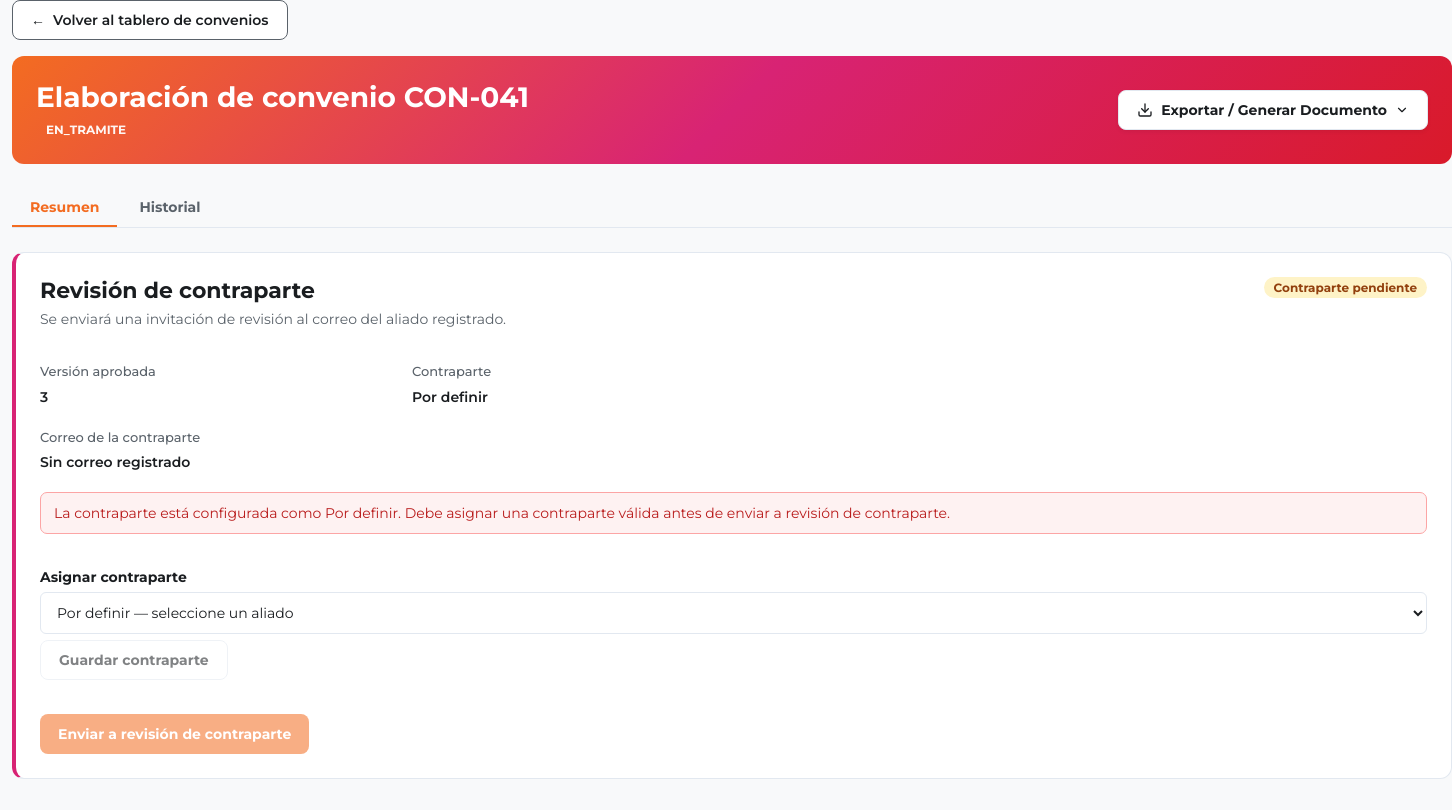
Test: HT-16 (#172): validación y asignación de contraparte antes del envío (CA-01, CA-02, CA-03) › CA-01, CA-02 y CA-03: asigna desde Por definir y exige nuevos avales al rectificar la contraparte
Expected: the message shows "Por definir", [54,504,950,522]
Expected: the message shows "Debe asignar una contraparte válida", [54,504,950,522]
Select "Aliado Sin Correo (800111222) · Sin correo" in the dropdown labelled "Asignar contraparte" at {"x": 734, "y": 613}, box [40,592,1427,634]
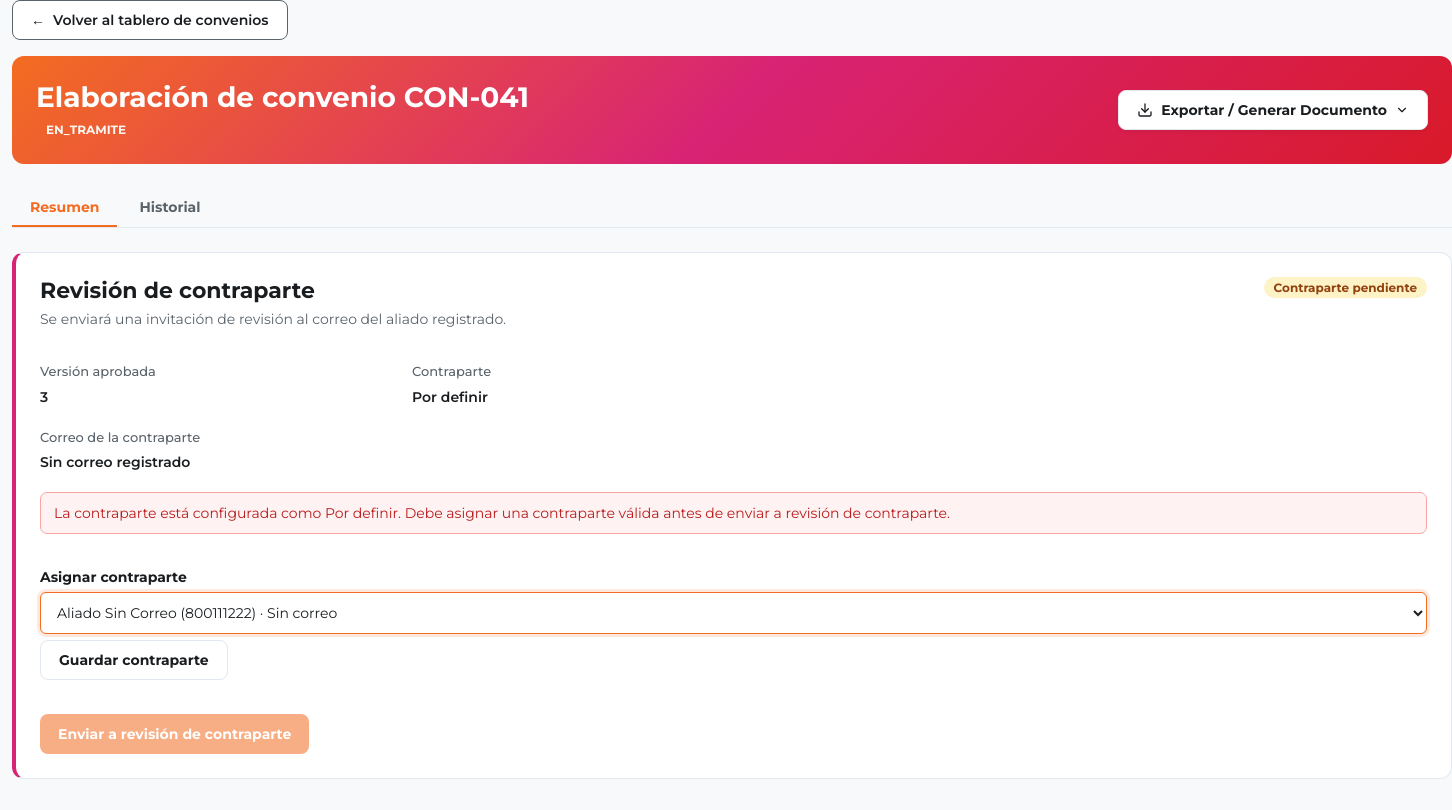
Click the button "Guardar contraparte" at {"x": 134, "y": 660}, box [40,640,228,680]
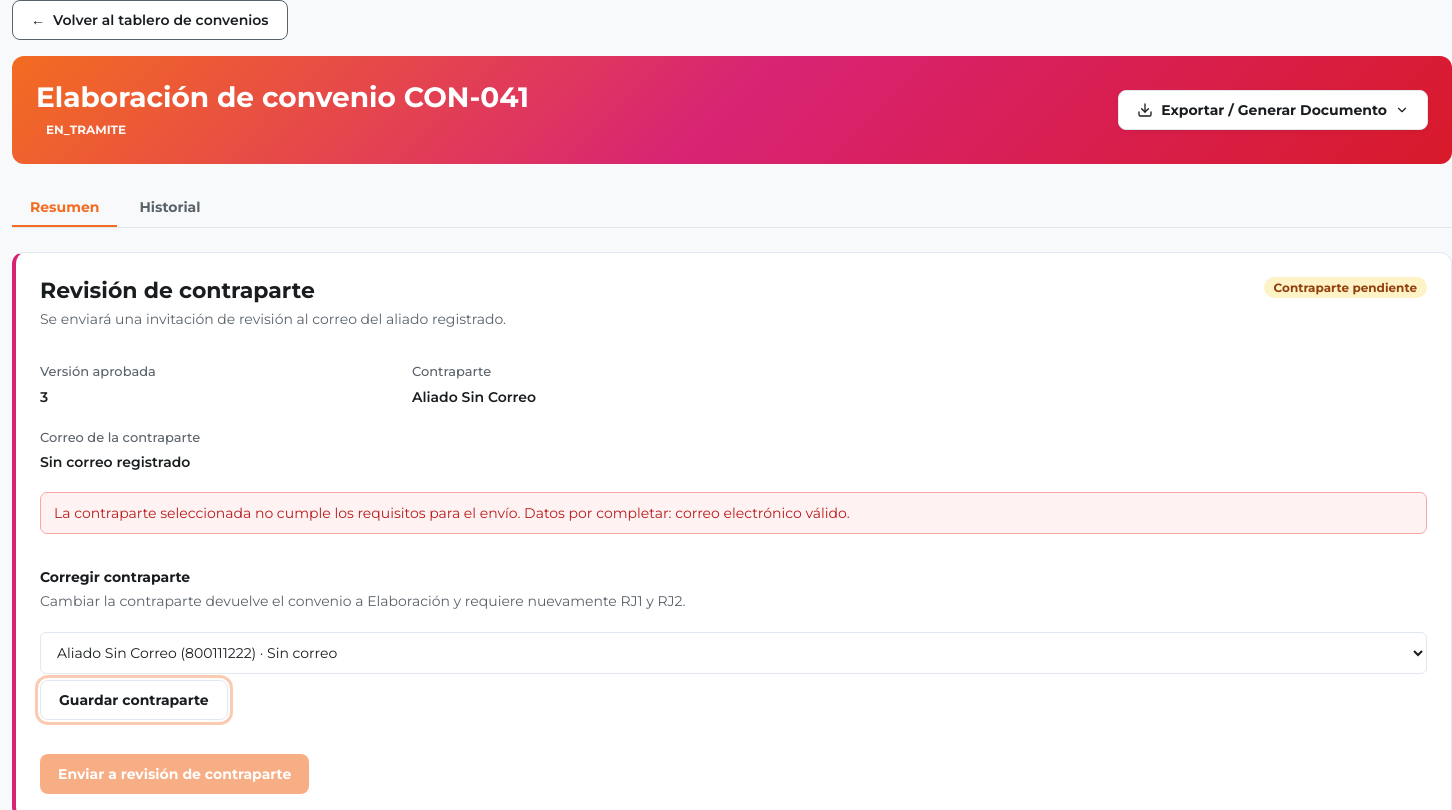
Expected: the button "Enviar a revisión de contraparte" is disabled, [40,754,309,794]
Result: the message shows "Datos por completar: correo electrónico válido" at [40,492,1427,534]
Select "Universidad Contraparte Válida (890333444) · juridica@universidad.edu.co" in the dropdown labelled "Corregir contraparte" at {"x": 734, "y": 653}, box [40,632,1427,674]
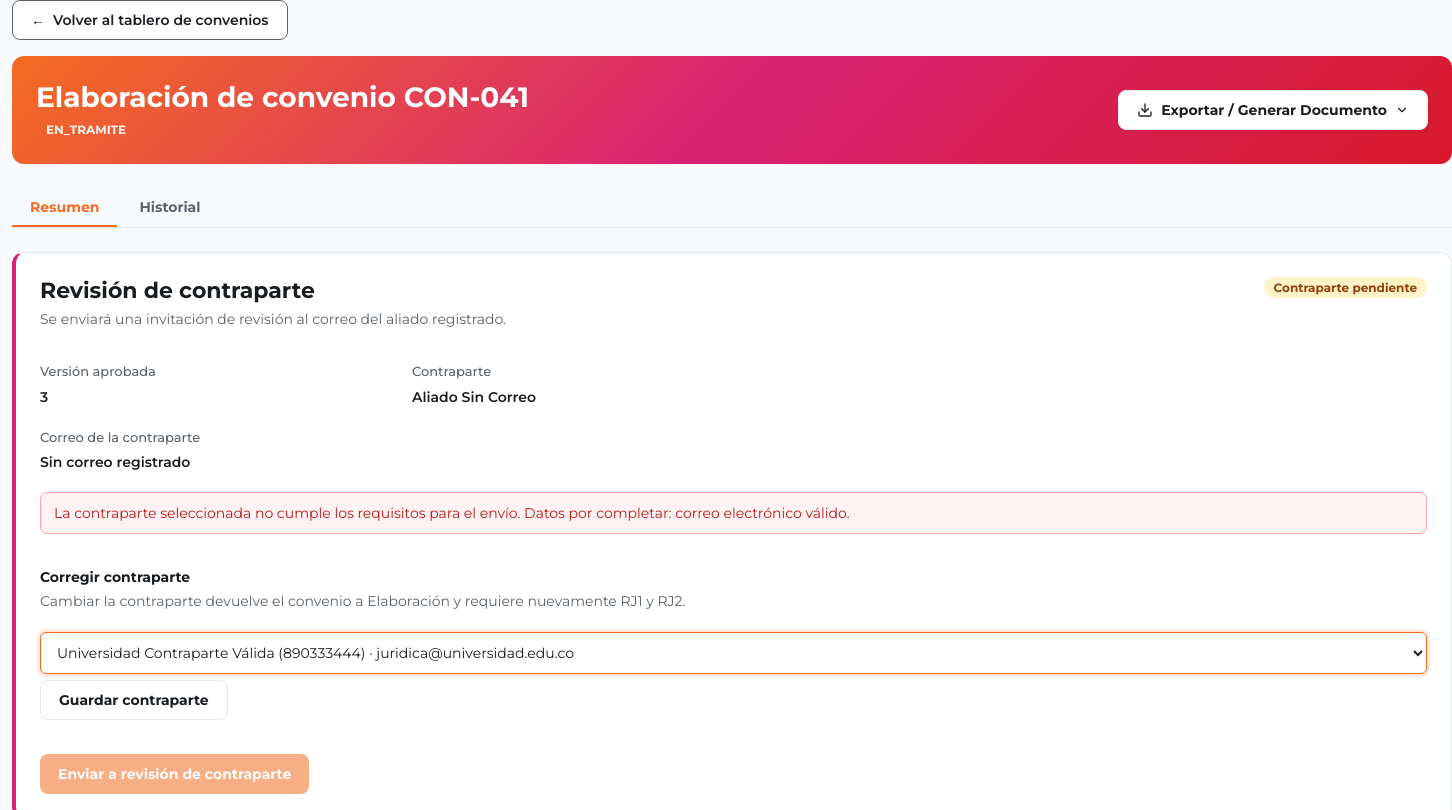
Click the button "Guardar contraparte" at {"x": 134, "y": 700}, box [40,680,228,720]
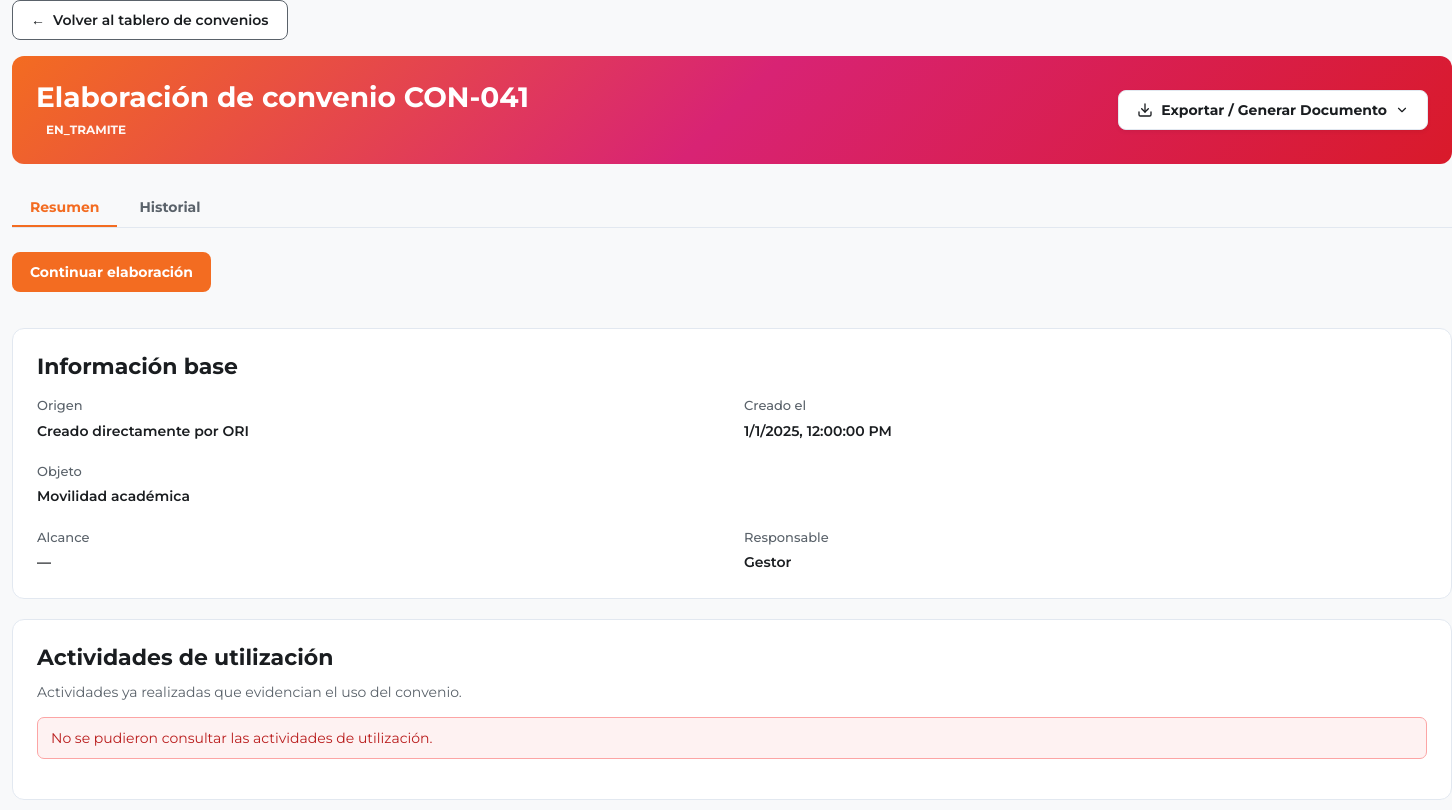
Result: the heading "Revisión de contraparte" is gone
Result: the link "Continuar elaboración" is shown at [12,252,211,292]
